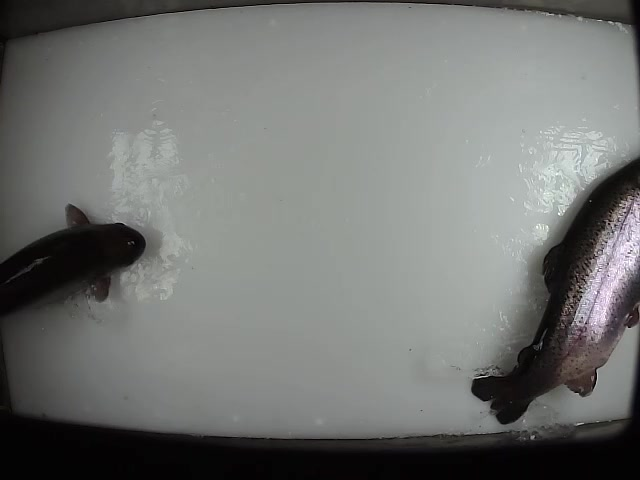fish: (469, 154, 640, 425), (1, 198, 149, 326)
